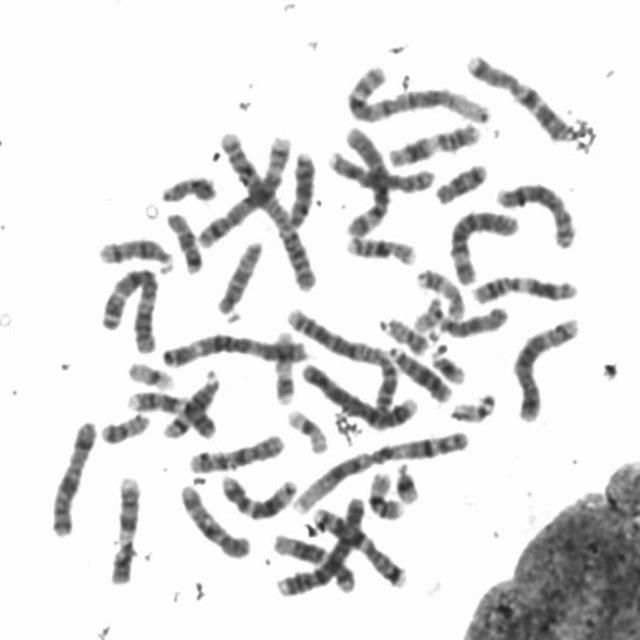A1: (286, 424, 472, 516), (341, 60, 494, 126)
A2: (216, 125, 320, 292), (282, 303, 402, 428)
A3: (156, 326, 313, 371), (95, 261, 163, 355)
B4: (273, 490, 369, 600), (296, 356, 422, 431)
B5: (193, 129, 294, 250), (509, 311, 583, 424)
C10: (174, 478, 253, 561), (184, 428, 287, 475)
C11: (384, 118, 484, 168), (468, 270, 582, 306)
C12: (267, 528, 357, 593), (216, 468, 298, 522)
C6: (338, 121, 396, 238), (446, 204, 522, 287)
C7: (462, 47, 585, 142), (308, 501, 410, 589)
C8: (489, 175, 578, 250), (323, 143, 438, 194)
C9: (124, 386, 218, 439), (105, 470, 143, 587)
D13: (383, 339, 455, 404), (283, 146, 318, 229)
D14: (159, 365, 223, 439), (94, 231, 176, 275)
D15: (210, 234, 266, 318), (428, 300, 512, 339)
E16: (342, 230, 419, 268), (363, 465, 407, 521)
E17: (412, 262, 468, 322), (268, 325, 297, 405)
E18: (430, 156, 491, 206), (162, 206, 205, 275)
F19: (281, 403, 331, 455), (124, 356, 177, 392)
F20: (379, 312, 432, 356), (96, 406, 152, 446)
G21: (426, 341, 468, 386), (391, 456, 422, 506)
G22: (446, 387, 499, 425), (409, 291, 446, 335)
X: (45, 413, 99, 538)
Y: (156, 170, 219, 204)
